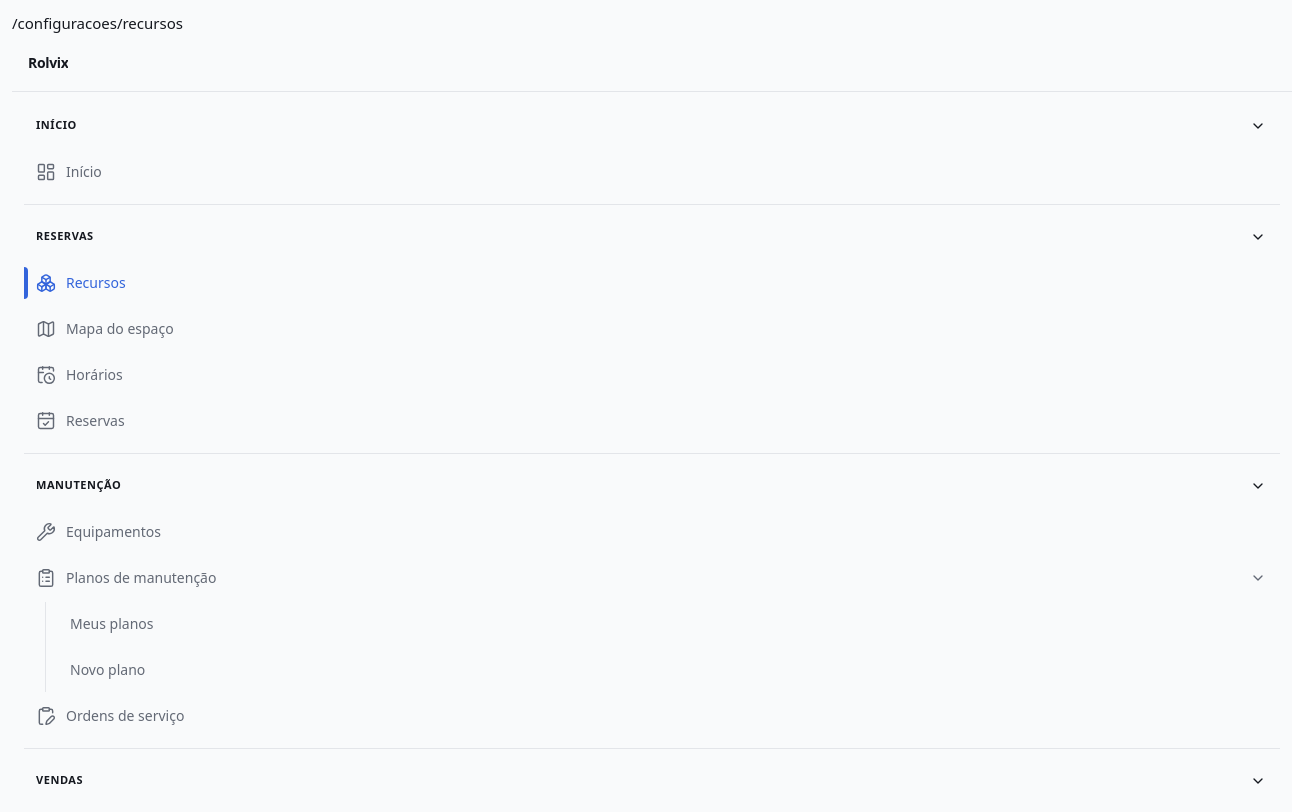
Test case: module introductions › navigates from a section title independently of its toggle
Click the button named "Recolher Reservas".
click(1258, 236)  # box x1=1236 y1=214 x2=1280 y2=258
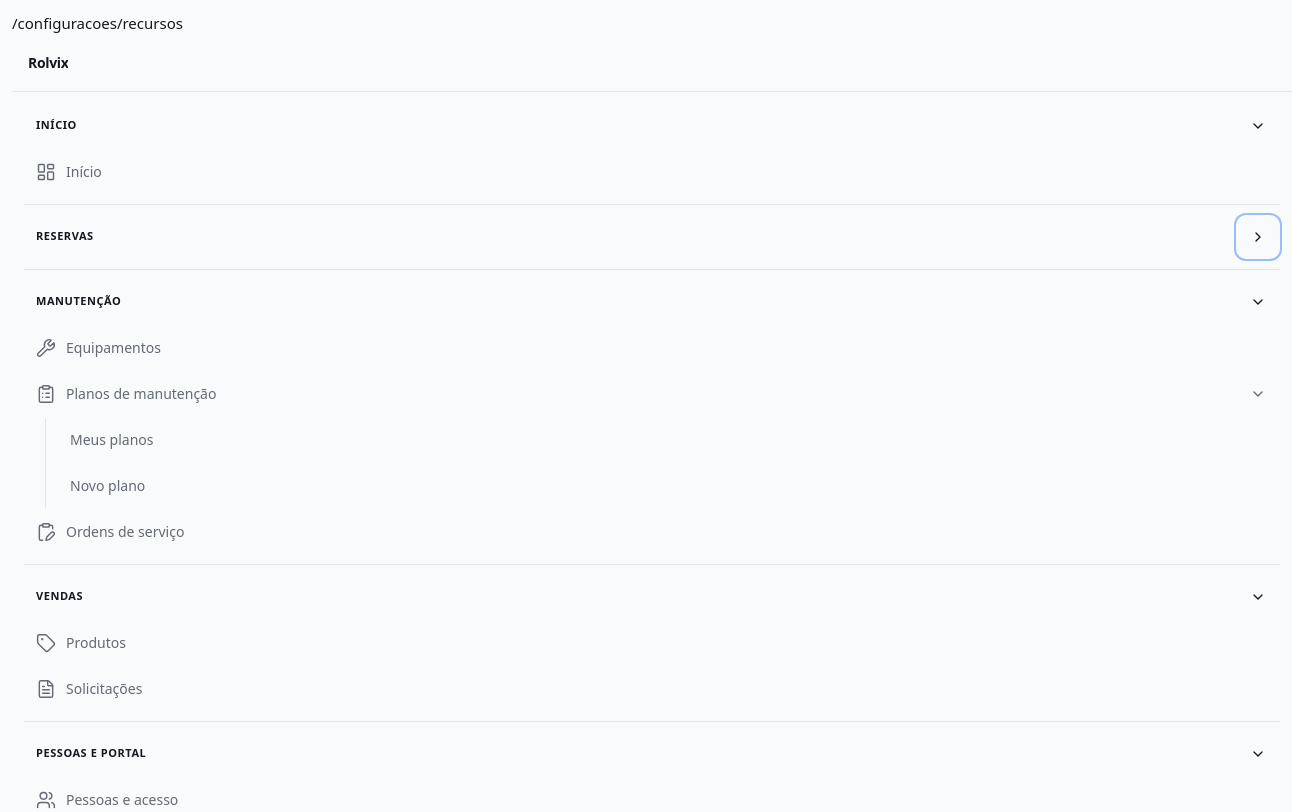
Expected: the text with test id "location" reads "/configuracoes/recursos", x1=12 y1=13 x2=183 y2=33
Click the link with aria-label "Sobre Reservas".
click(65, 236)  # box x1=36 y1=228 x2=94 y2=243
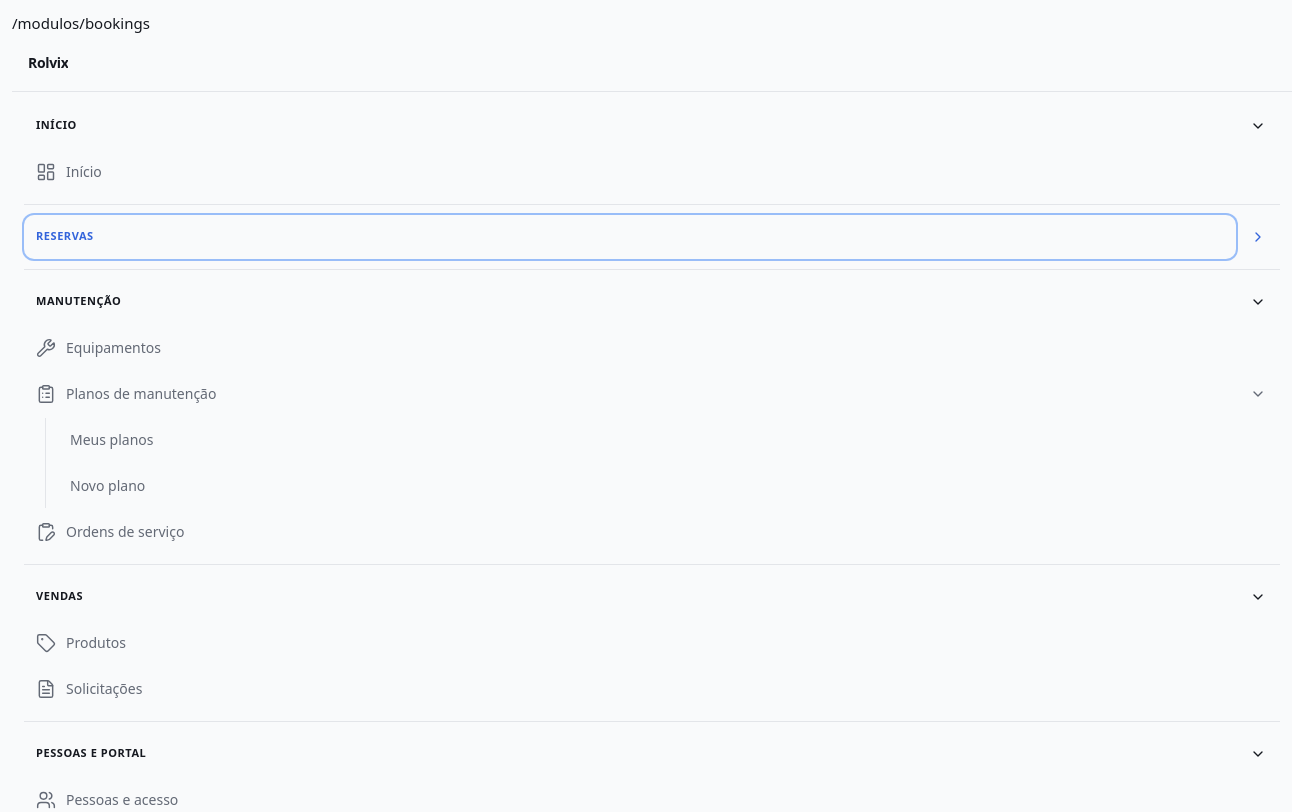
Now the link with aria-label "Sobre Reservas" is marked as current, box x1=24 y1=214 x2=1236 y2=258
Click the button named "Expandir Reservas".
click(1258, 236)  # box x1=1236 y1=214 x2=1280 y2=258
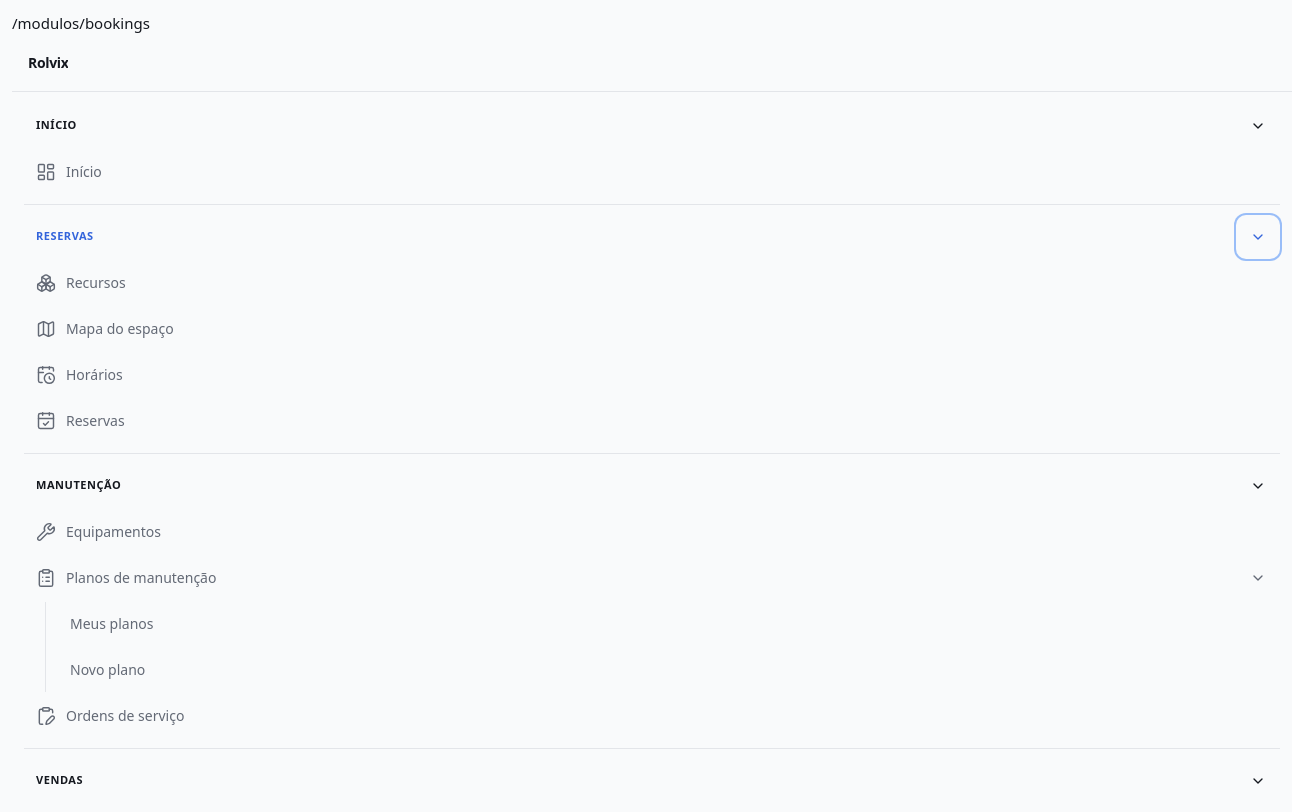
Now the link "Recursos" is shown, box x1=36 y1=272 x2=126 y2=292
